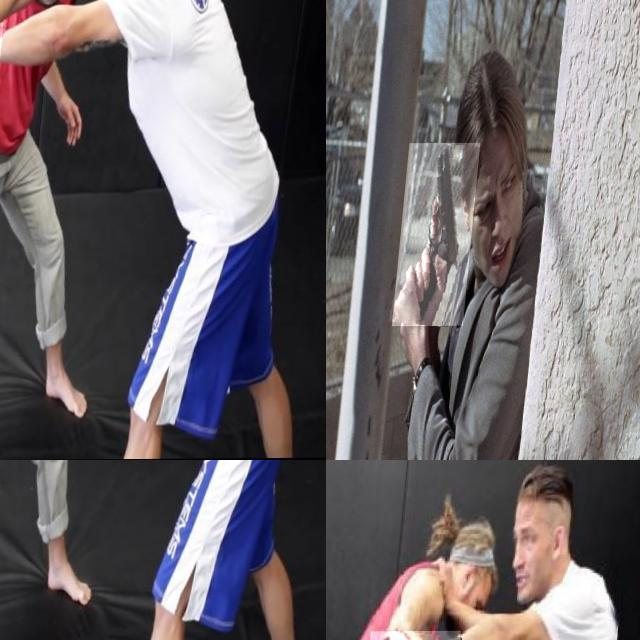-: (0, 22, 36, 117), (0, 460, 70, 507)
gun-knife-thesis - v11 Yolov5 augmented: (399, 143, 484, 327)
